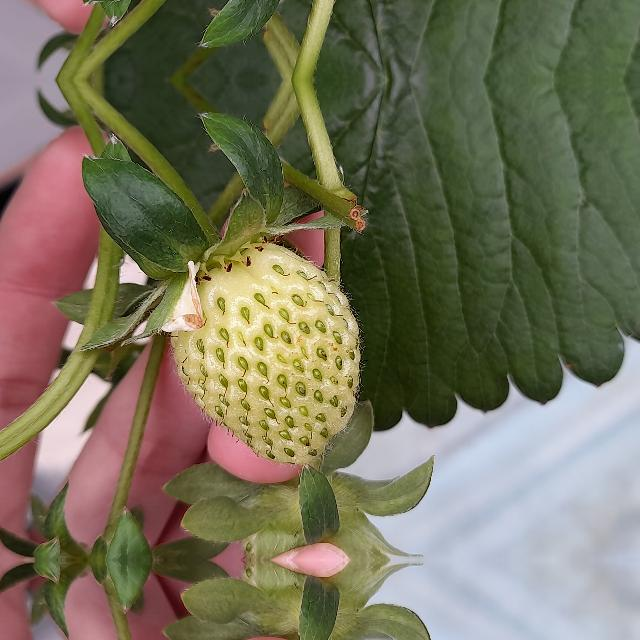Health_25: (170, 243, 360, 465)
